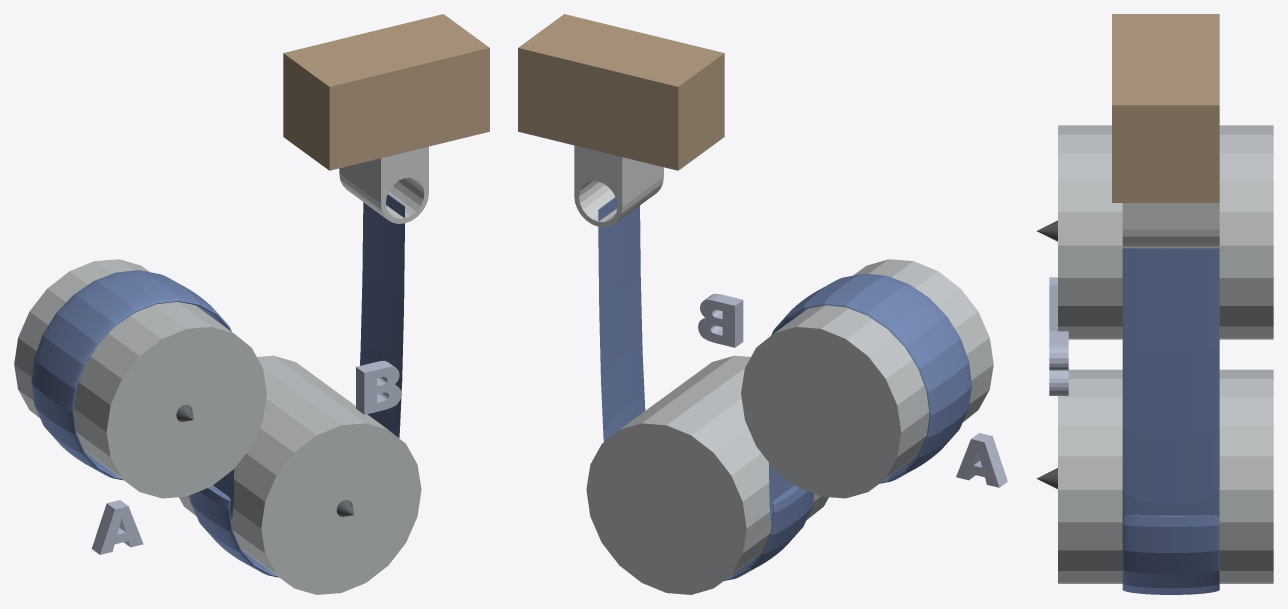
Rendered from U3_DrumBeltAnd.glb.
3 renders of one model, left to right at view 1: azimuth 30°, elevation 25°; view 2: azimuth 150°, elevation 25°; view 3: azimuth 270°, elevation 25°, orthographic. The views are drawn at different scales.
Parts seen in each view (by area): view 1: Mesh_Mesh_head_geo.001_lambert2SG.001; view 2: Mesh_Mesh_head_geo.001_lambert2SG.001; view 3: Mesh_Mesh_head_geo.001_lambert2SG.001.
Boxes of the visible parts, x1,y1,x2,y2 form: Mesh_Mesh_head_geo.001_lambert2SG.001: [14, 14, 489, 594]; Mesh_Mesh_head_geo.001_lambert2SG.001: [518, 14, 1007, 594]; Mesh_Mesh_head_geo.001_lambert2SG.001: [1036, 14, 1273, 594].
Bounding box in the file's own units: 52 × 59 × 22.
